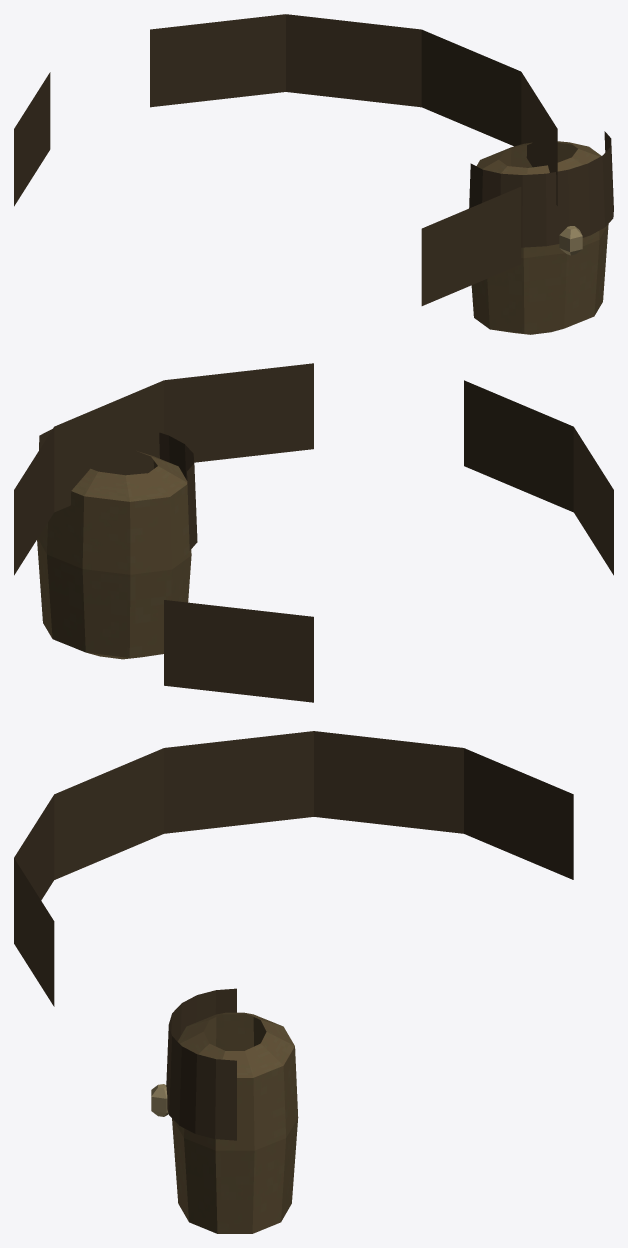
File: acc_belt_pouch.glb
The picture shows the model from 3 angles, top to bottom: view 1: azimuth 30°, elevation 25°; view 2: azimuth 150°, elevation 25°; view 3: azimuth 270°, elevation 25°; orthographic projection. The views are drawn at different scales.
Parts seen in each view (by area): view 1: acc_belt_pouch; view 2: acc_belt_pouch; view 3: acc_belt_pouch.
Boxes of the visible parts, <box> form: acc_belt_pouch: <box>14,14,613,334</box>; acc_belt_pouch: <box>14,363,613,702</box>; acc_belt_pouch: <box>14,731,573,1233</box>.
Bounding box in the file's own units: 0.421 × 0.17 × 0.38.
3 materials, 2 textured.
